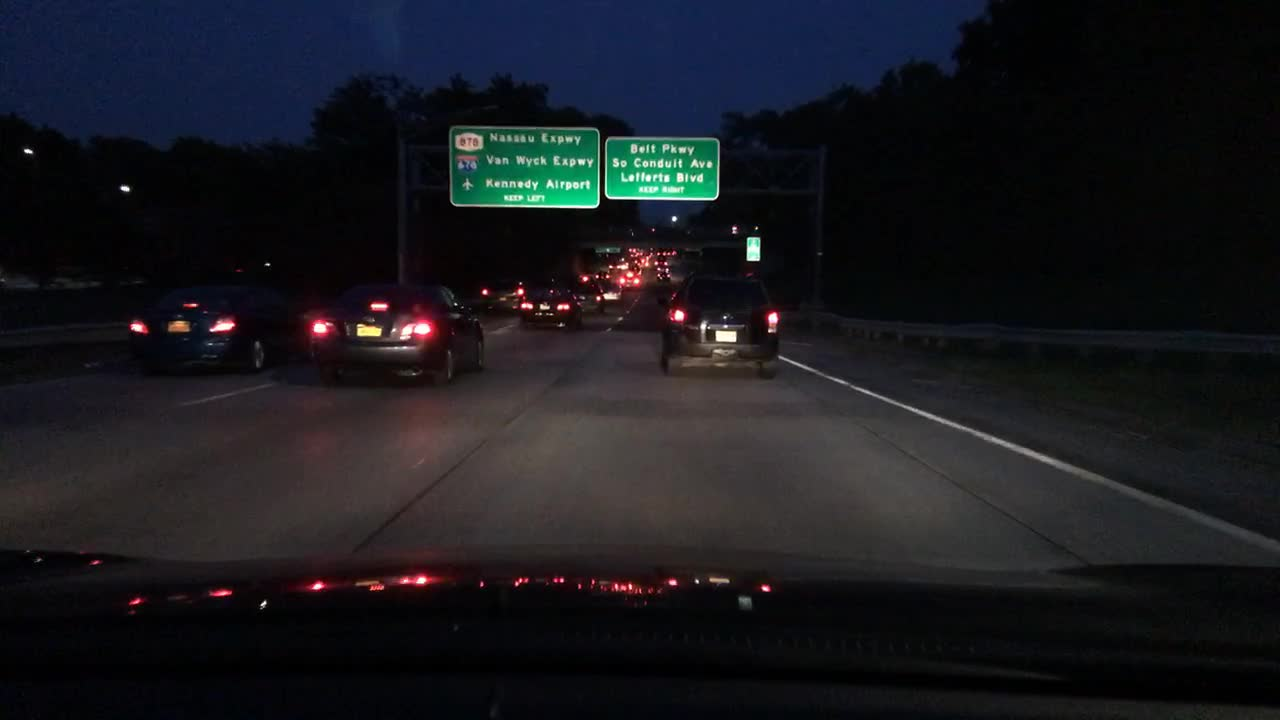car: (303, 278, 486, 387), (123, 283, 309, 376), (655, 269, 785, 376), (520, 287, 581, 330), (479, 278, 523, 315), (570, 277, 603, 309), (618, 267, 639, 287), (601, 284, 621, 300), (606, 258, 630, 269), (652, 257, 670, 269), (656, 247, 675, 258), (655, 270, 671, 283), (630, 251, 645, 264), (592, 270, 610, 280), (655, 264, 670, 273)
traffic sign: (451, 125, 596, 205), (606, 136, 719, 198), (745, 235, 762, 263), (596, 247, 619, 254)
